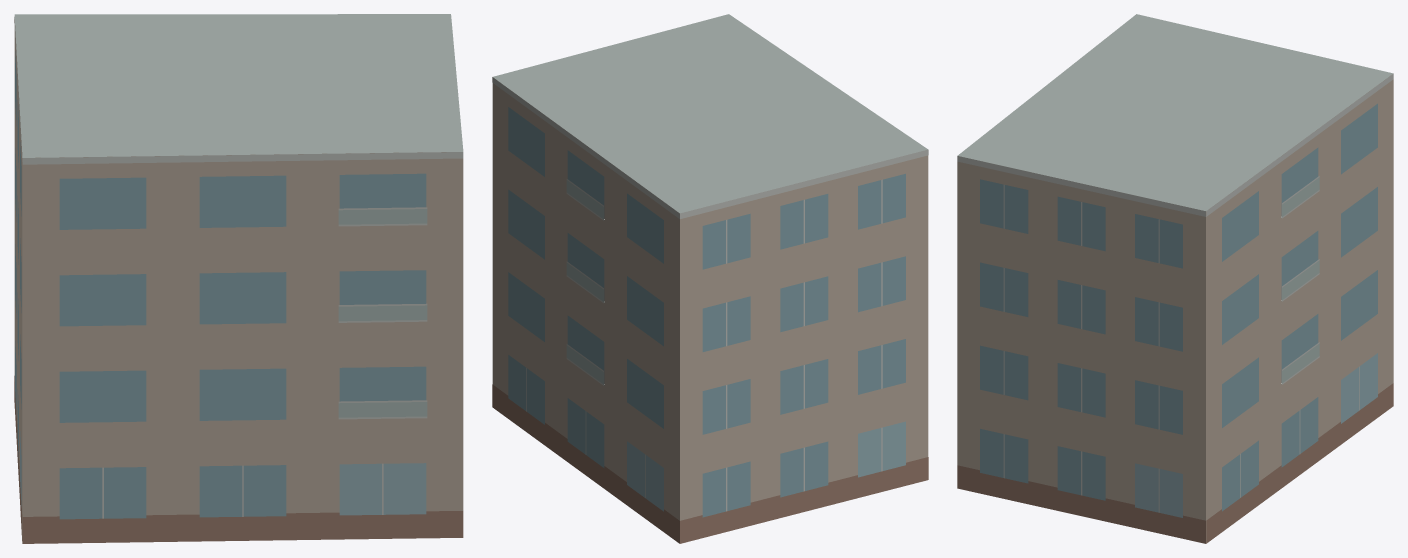
File: survey-upis-32582978.glb
The picture shows the model from 3 angles, left to right: view 1: azimuth 30°, elevation 25°; view 2: azimuth 150°, elevation 25°; view 3: azimuth 270°, elevation 25°; orthographic projection. The views are drawn at different scales.
Parts seen in each view (by area): view 1: survey-upis-32582978.tmp; view 2: survey-upis-32582978.tmp; view 3: survey-upis-32582978.tmp.
Boxes of the visible parts, bbox=[...] form: survey-upis-32582978.tmp: bbox=[14, 14, 463, 543]; survey-upis-32582978.tmp: bbox=[492, 14, 928, 543]; survey-upis-32582978.tmp: bbox=[957, 14, 1393, 543].
Size of the model in its own units: 17.81 by 14 by 16.65.
